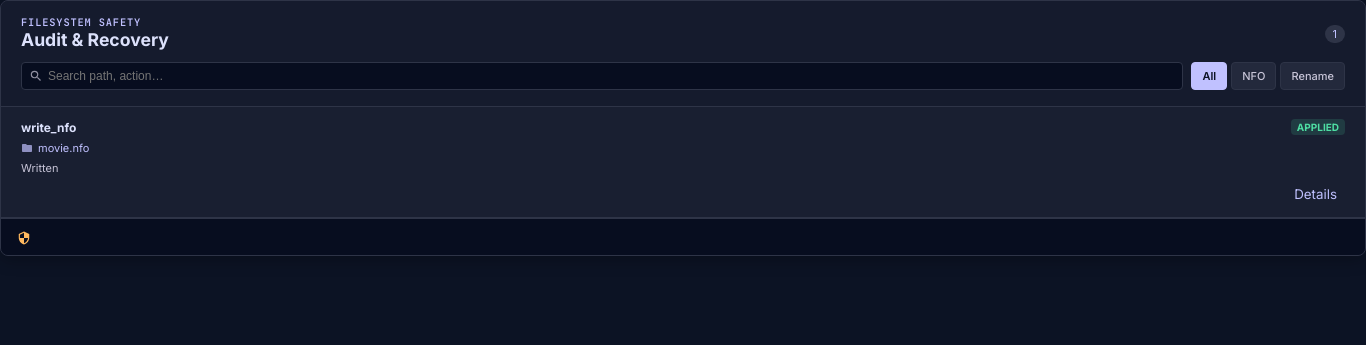
it: audit disclosure › provides a native button linked to recovery details
What coordinates should you click on to do the following:
click the button "Details"
I would click on:
 (1316, 194)
Its box is left=1286, top=183, right=1345, bottom=205.
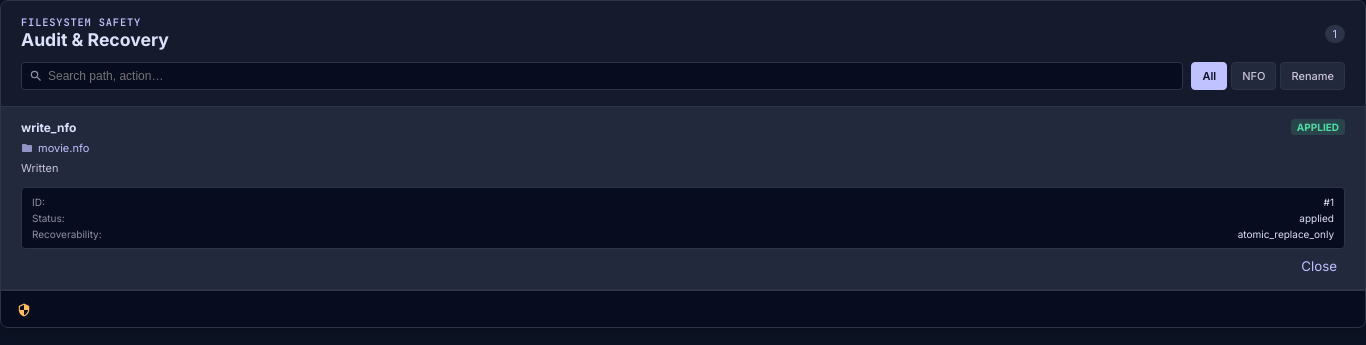
Expected: the button "Close" is expanded
What coordinates should you click on to do the following:
click the button "Close"
I would click on:
 (1319, 266)
Its box is left=1293, top=255, right=1345, bottom=277.
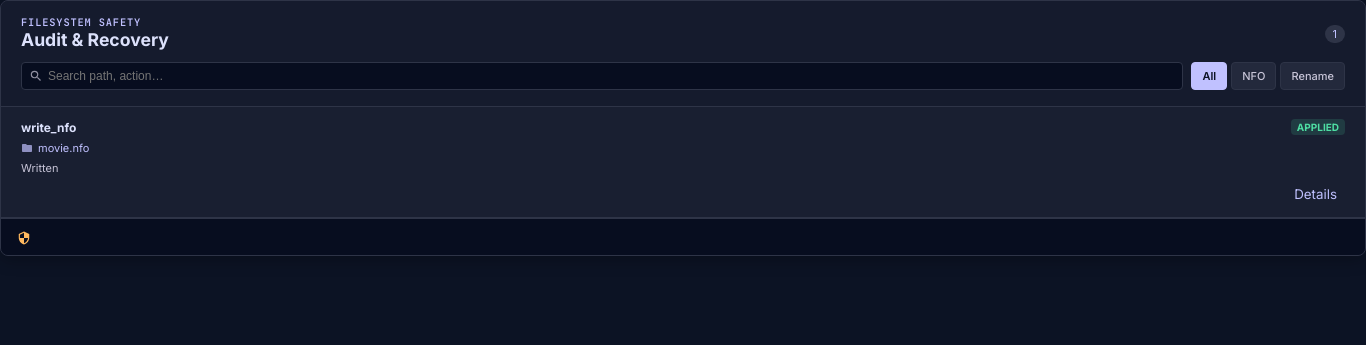
Expected: the button "Details" is collapsed, left=1286, top=183, right=1345, bottom=205
